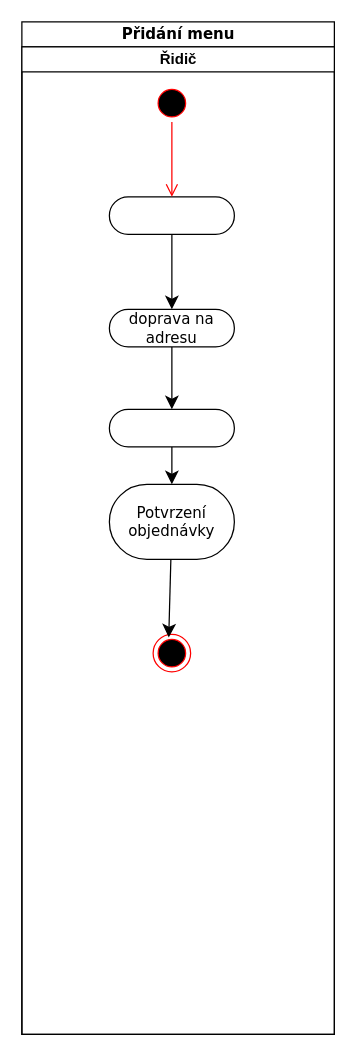
This 356x1056 diagram has some shape labels left out. Here are the shapes that lost their labels. From the top down, the box of each, then its label:
(108, 196, 234, 234): zobrazení objednávek
(108, 408, 234, 447): Předání zboží
